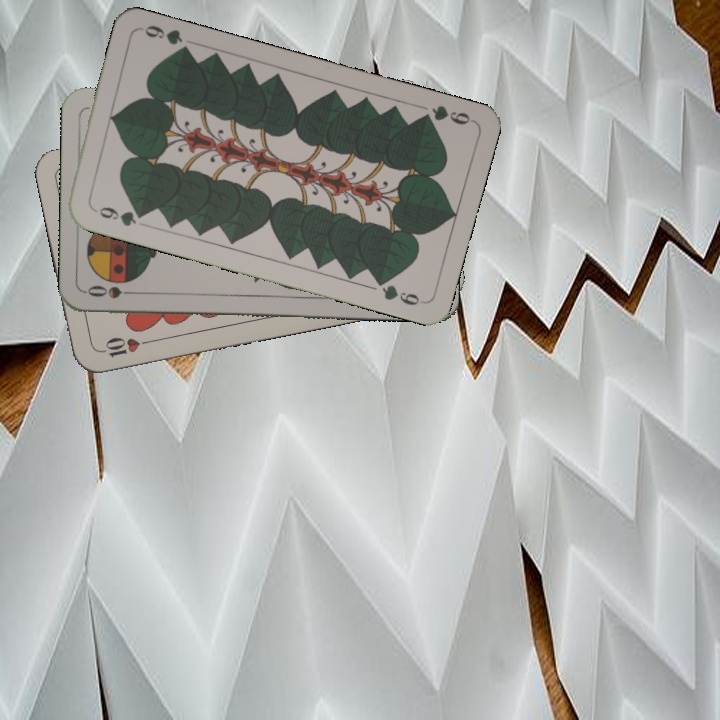G9: (415, 101, 476, 128), (88, 202, 148, 229)
H10: (96, 333, 155, 360)
SO: (83, 281, 142, 301)
